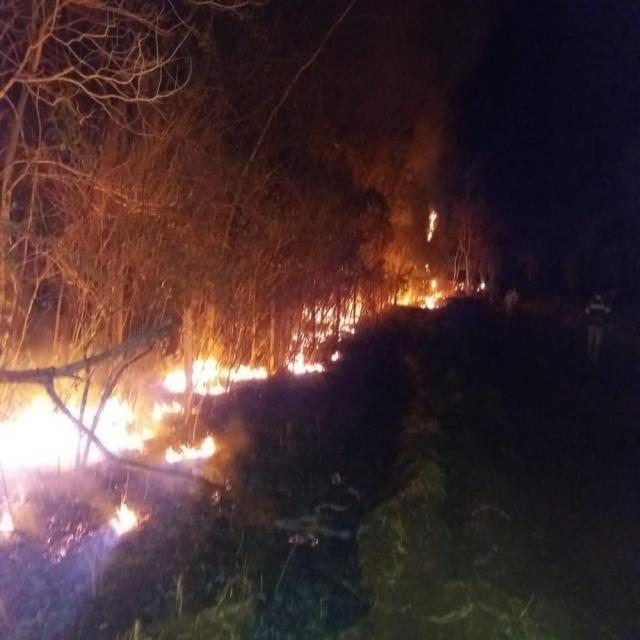Fire: (0, 356, 268, 474), (284, 290, 362, 377), (388, 277, 446, 310), (105, 501, 139, 538), (1, 508, 14, 542), (426, 208, 438, 242), (454, 281, 464, 292), (476, 282, 485, 292)
Smoke: (0, 461, 200, 640)
